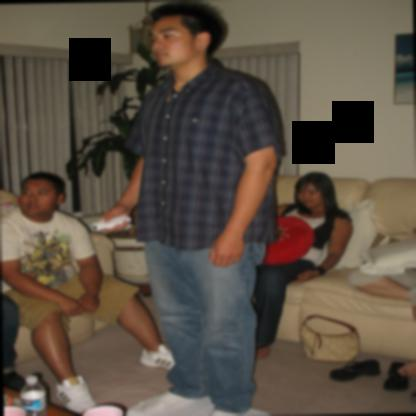handbag: (300, 313, 360, 363)
